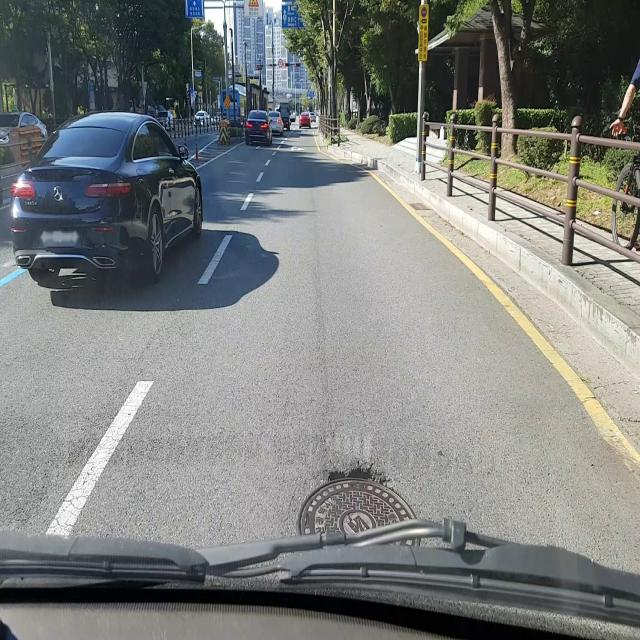Pothole: (296, 462, 421, 546)
